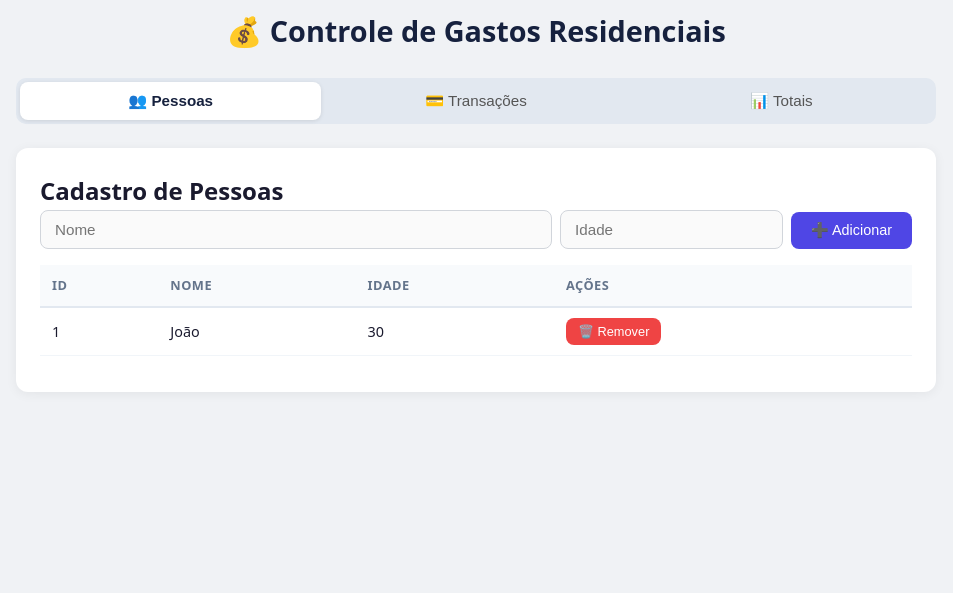
TransactionsTab — form submission › should create a transaction successfully
Step 1. Click the button "💳 Transações" → x=476, y=101, box top-left (325, 82), bottom-right (627, 120)
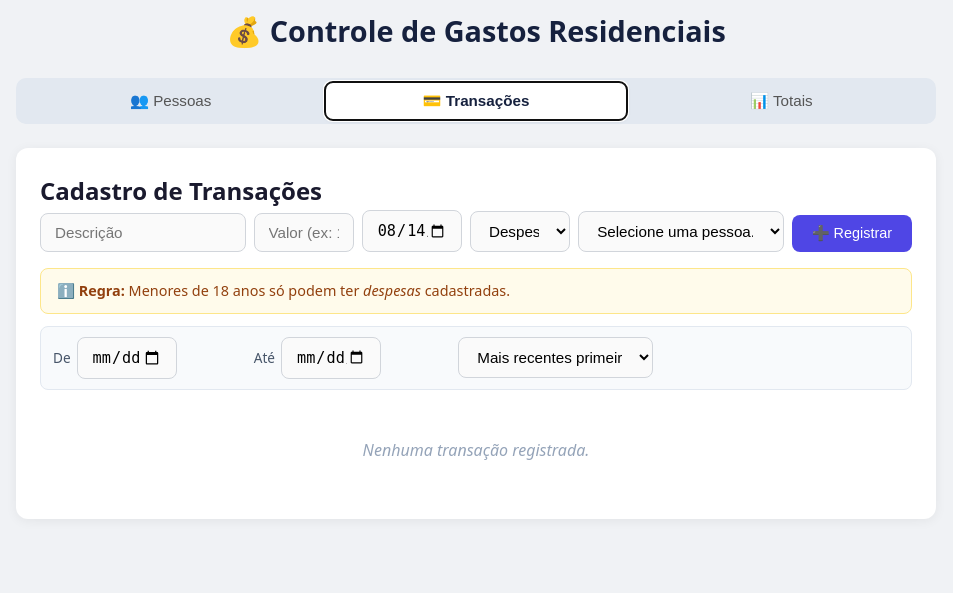
Now the field with placeholder "Descrição" is shown
Step 2. Type "Conta de Luz" into the field with placeholder "Descrição" → x=143, y=233, box top-left (40, 214), bottom-right (246, 252)
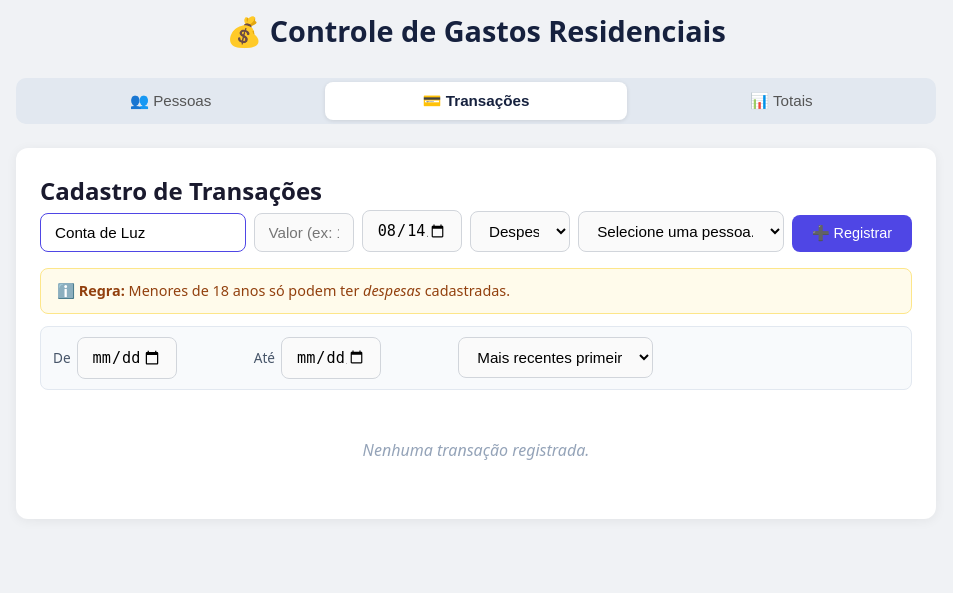
Step 3. Type "200" into the field labelled "Valor" → x=304, y=233, box top-left (254, 214), bottom-right (354, 252)
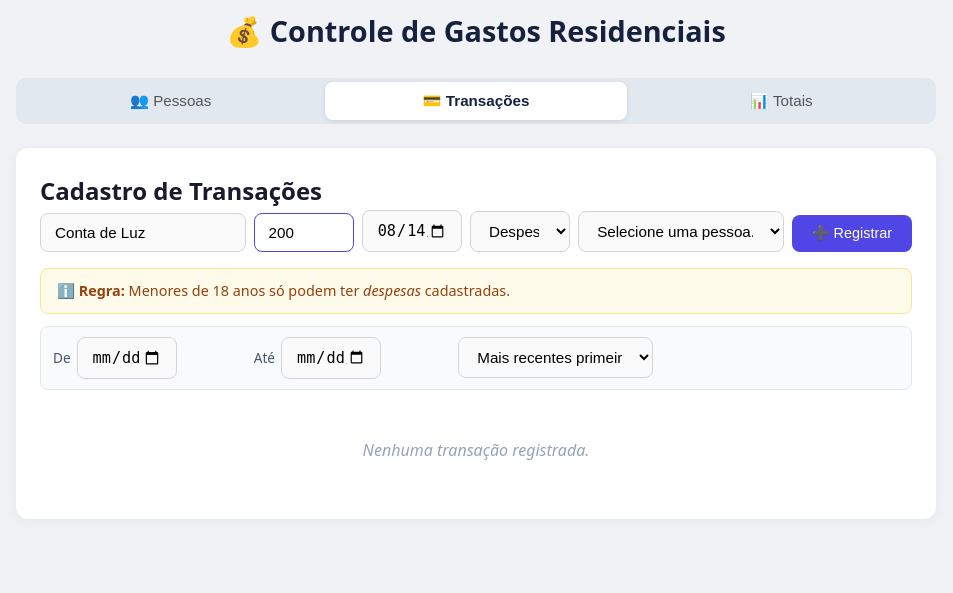
Step 4. Select "João (30a)" in the dropdown named "Pessoa" → x=681, y=232, box top-left (578, 212), bottom-right (784, 252)
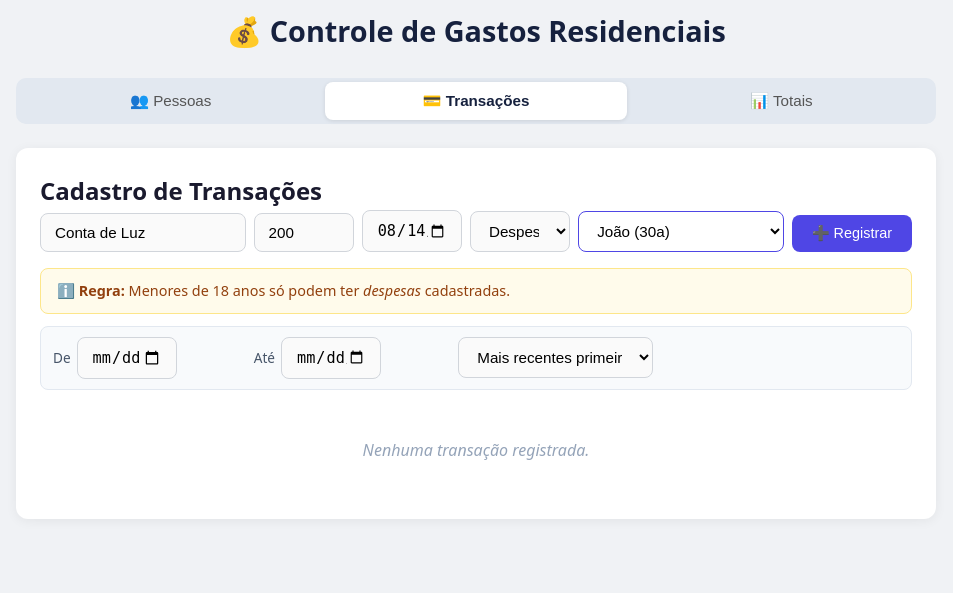
Step 5. Click the button "➕ Registrar" → x=852, y=234, box top-left (792, 216), bottom-right (912, 252)
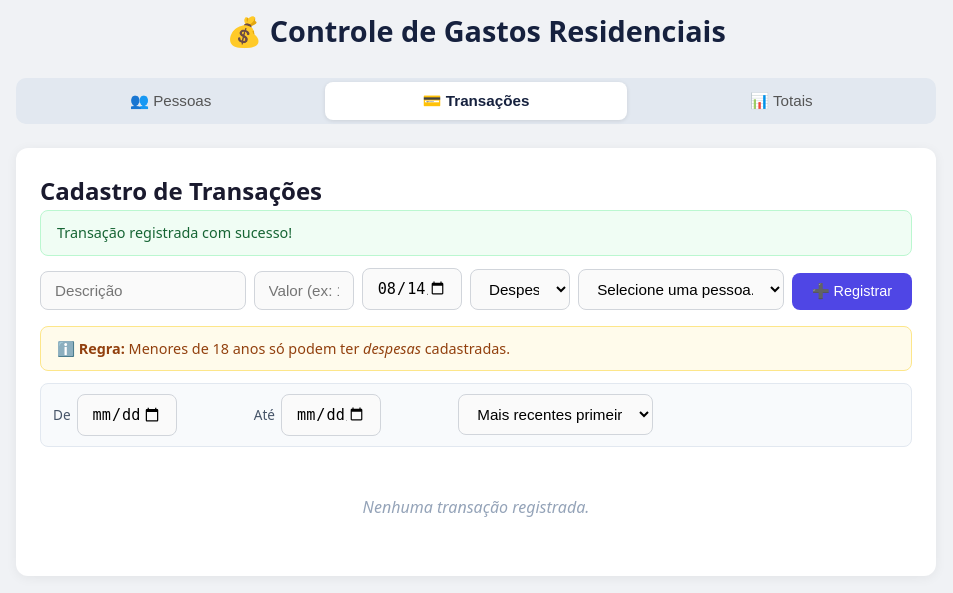
Now the text "Transação registrada com sucesso!" is shown, box top-left (40, 210), bottom-right (912, 256)
